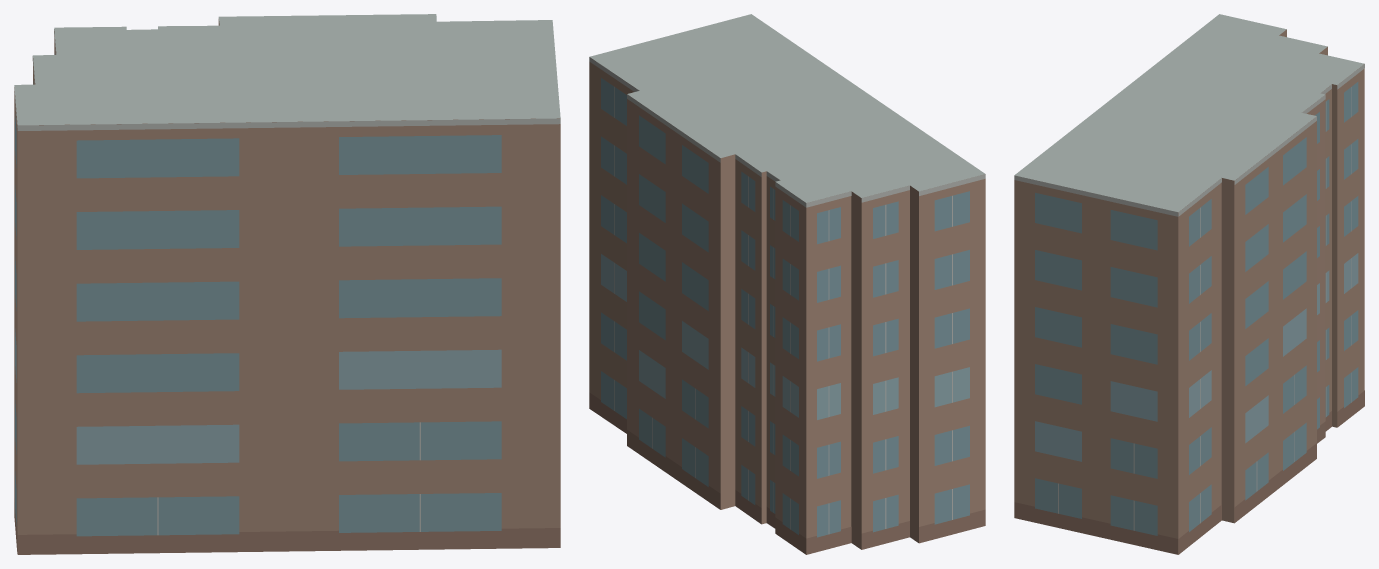
Rendered from survey-upis-32951896.glb.
The picture shows the model from 3 angles, left to right: view 1: azimuth 30°, elevation 25°; view 2: azimuth 150°, elevation 25°; view 3: azimuth 270°, elevation 25°; orthographic projection. The views are drawn at different scales.
Parts seen in each view (by area): view 1: survey-upis-32951896.tmp; view 2: survey-upis-32951896.tmp; view 3: survey-upis-32951896.tmp.
Part boxes in pixels (left/top/right/bottom): survey-upis-32951896.tmp: left=14, top=14, right=560, bottom=554; survey-upis-32951896.tmp: left=589, top=14, right=985, bottom=554; survey-upis-32951896.tmp: left=1014, top=14, right=1364, bottom=554.
Size of the model in its own units: 22.72 by 18.3 by 16.98.
